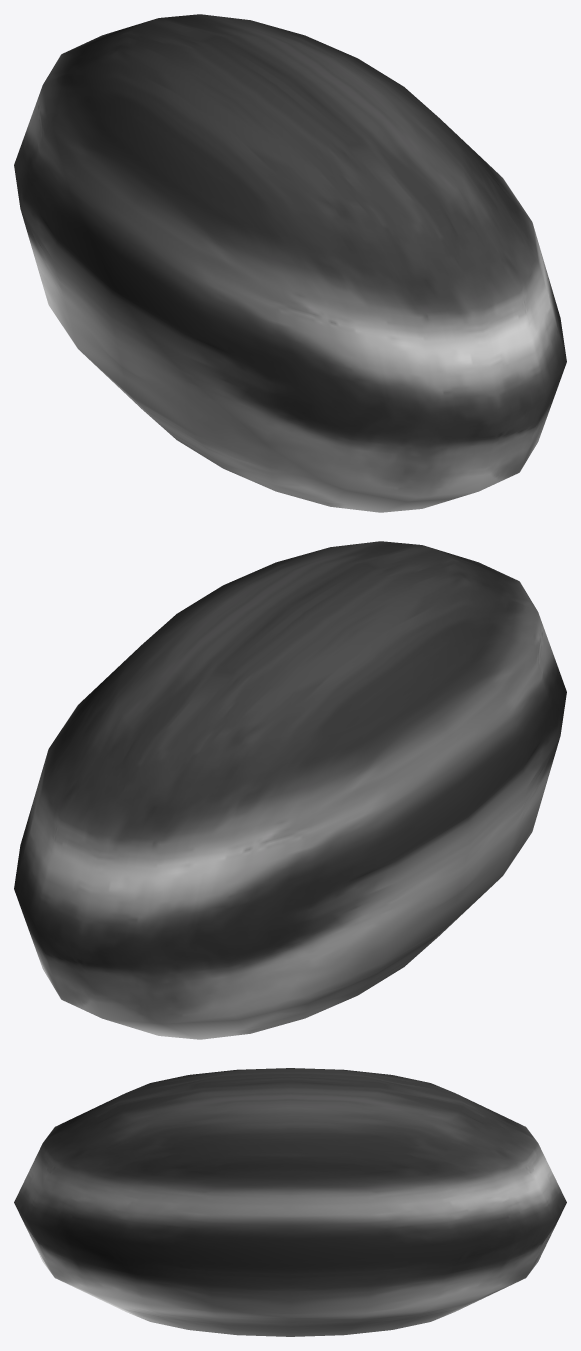
The model's file is eventshild.glb.
The picture shows the model from 3 angles, top to bottom: view 1: azimuth 30°, elevation 25°; view 2: azimuth 150°, elevation 25°; view 3: azimuth 270°, elevation 25°; orthographic projection. The views are drawn at different scales.
Visible parts, largest first — view 1: model_eventshild; view 2: model_eventshild; view 3: model_eventshild.
Boxes of the visible parts, bbox=[...] form: model_eventshild: bbox=[14, 14, 566, 512]; model_eventshild: bbox=[14, 541, 566, 1039]; model_eventshild: bbox=[14, 1068, 566, 1336].
Bounding box in the file's own units: 1.11 × 1.07 × 2.22.
1 material, 1 textured.
